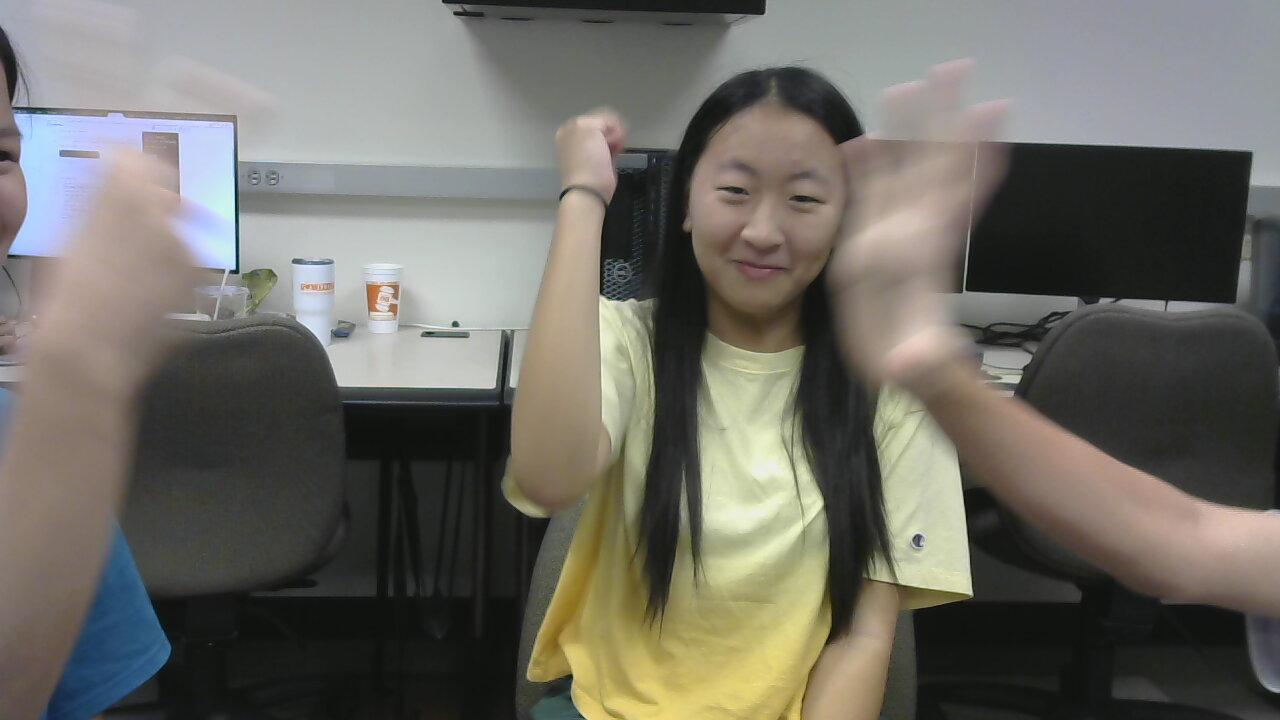fist: (539, 90, 631, 215)
